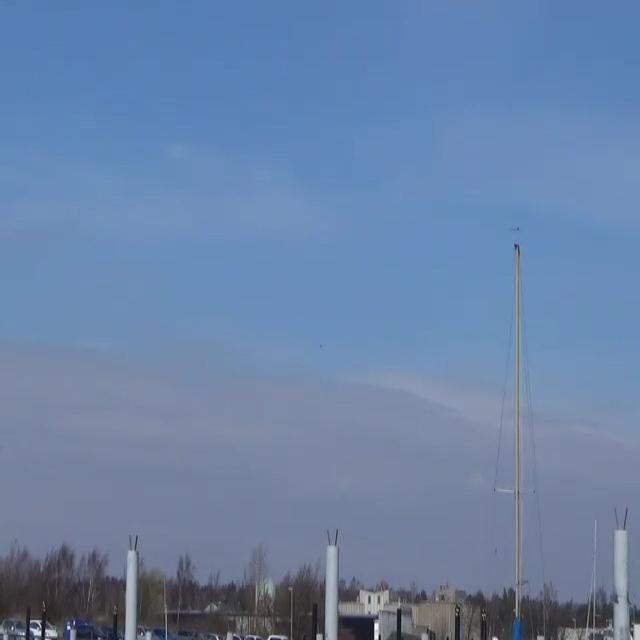bird: (317, 342, 325, 352)
